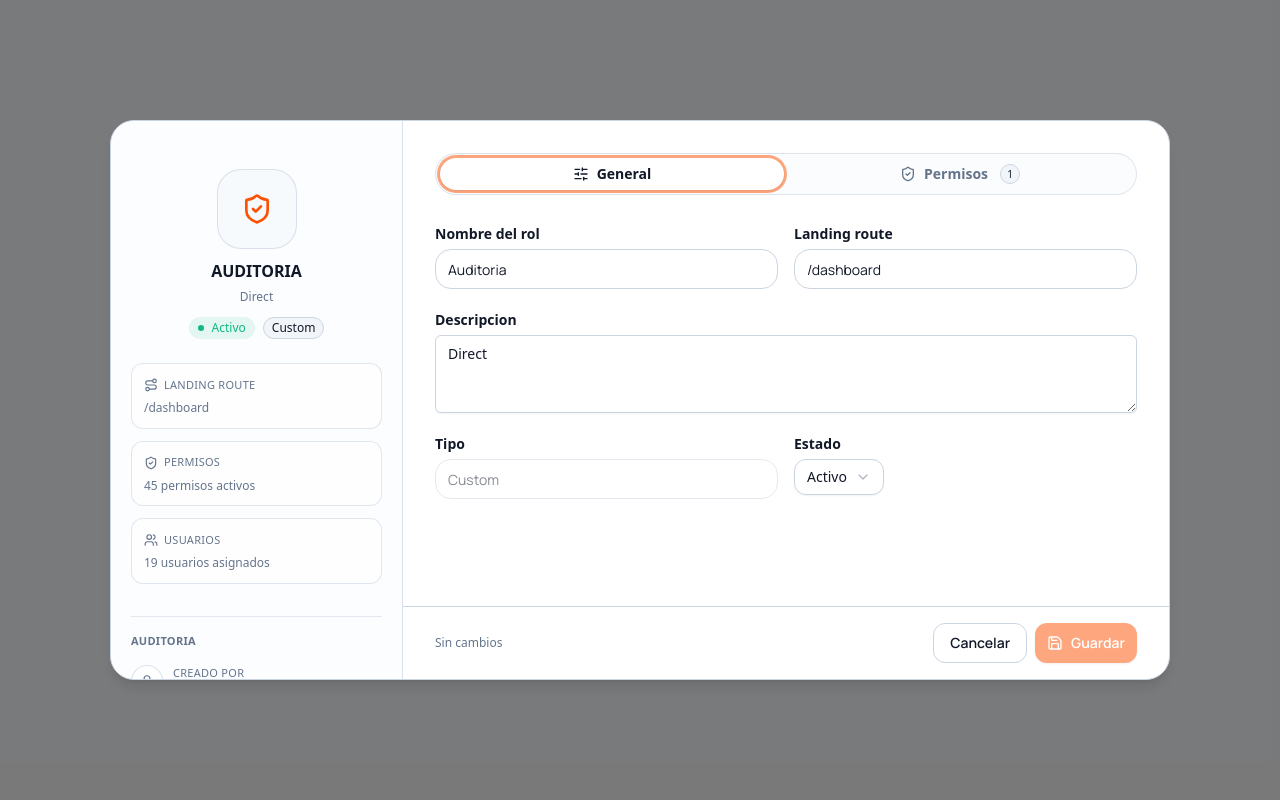
Test: RoleDetailsDialog UI › shows contextual notice when permissions catalog access is missing
Click the tab "Permisos 1" at (960, 174), box [788,158,1132,190]
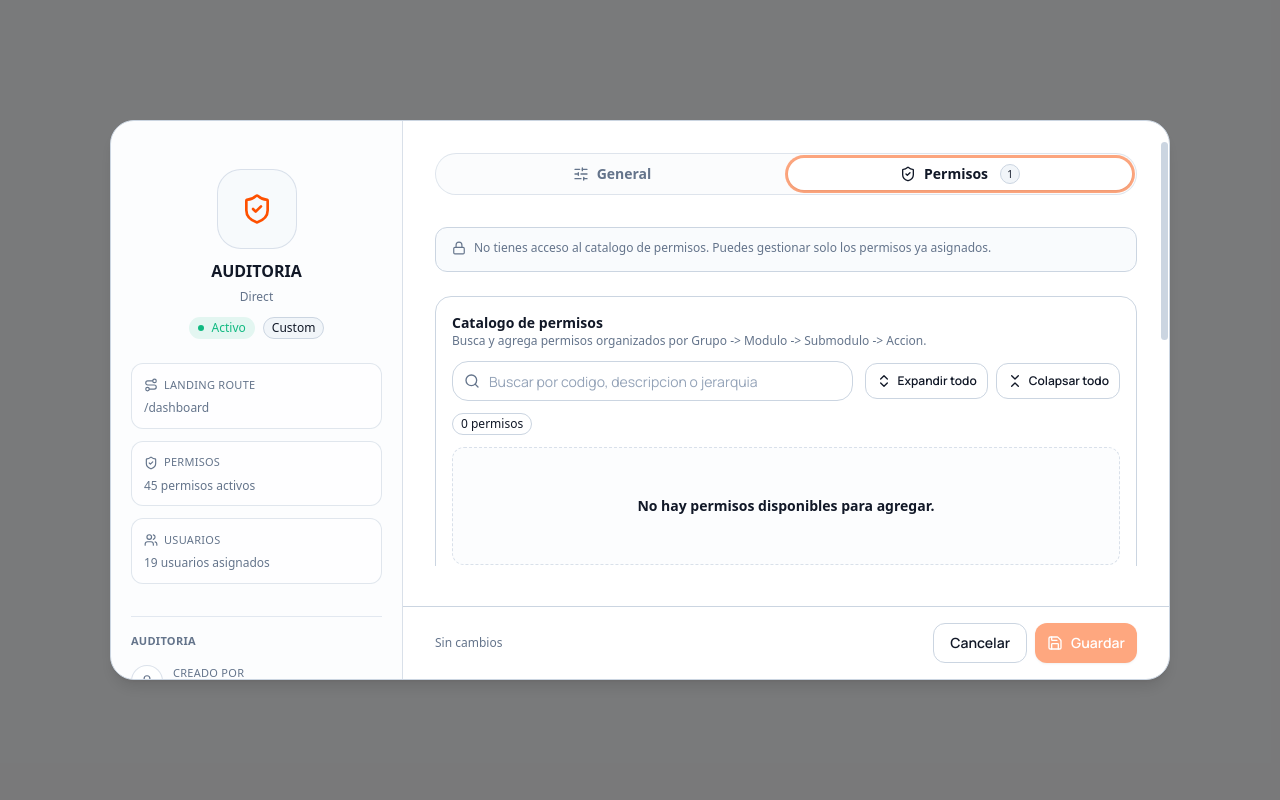
Expected: the text "No tienes acceso al catalogo de permisos" is shown, [474,239,991,256]
